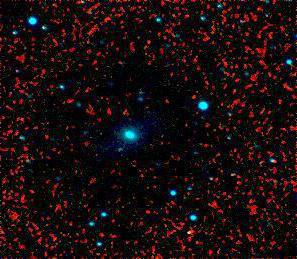star: (175, 217, 205, 247)
